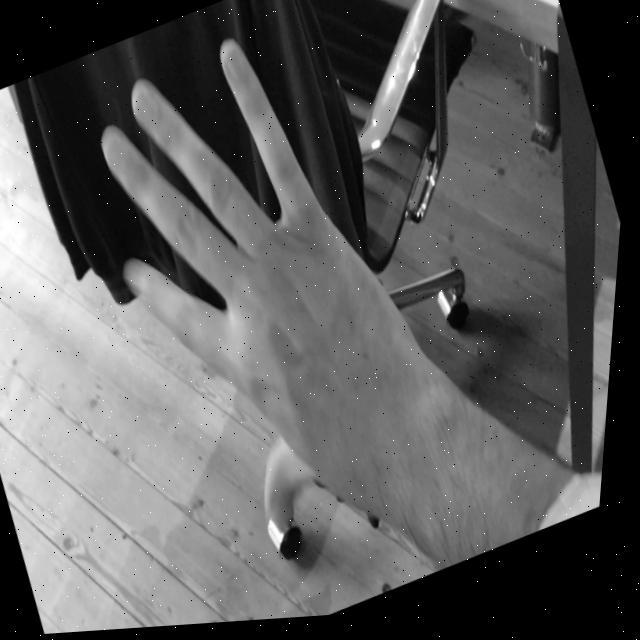no-gloves: (49, 0, 478, 573)
